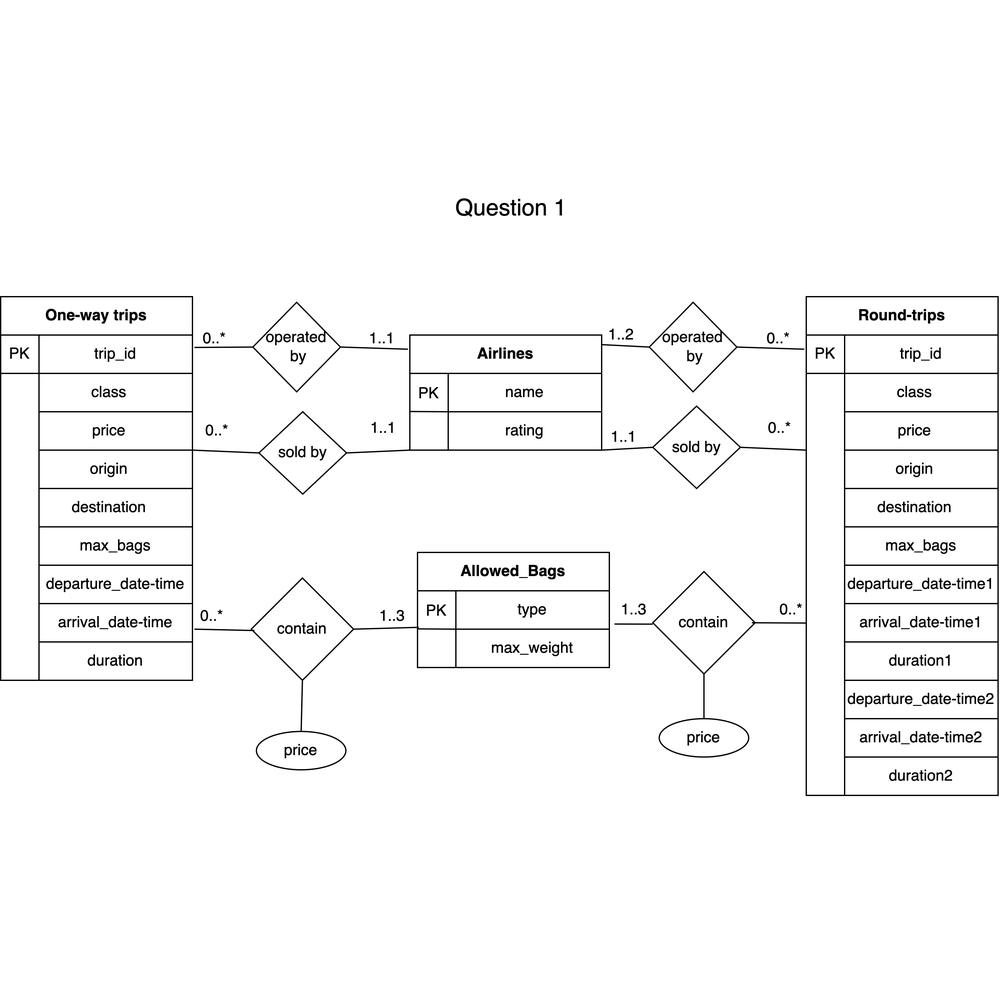attribute: (254, 724, 366, 775), (658, 715, 751, 761)
entity: (802, 279, 1000, 804), (1, 292, 194, 688), (405, 536, 620, 670), (404, 328, 606, 462)
relationship: (254, 575, 354, 681), (650, 577, 751, 672), (248, 302, 351, 393), (642, 299, 741, 390), (644, 408, 738, 487), (254, 415, 349, 492)
